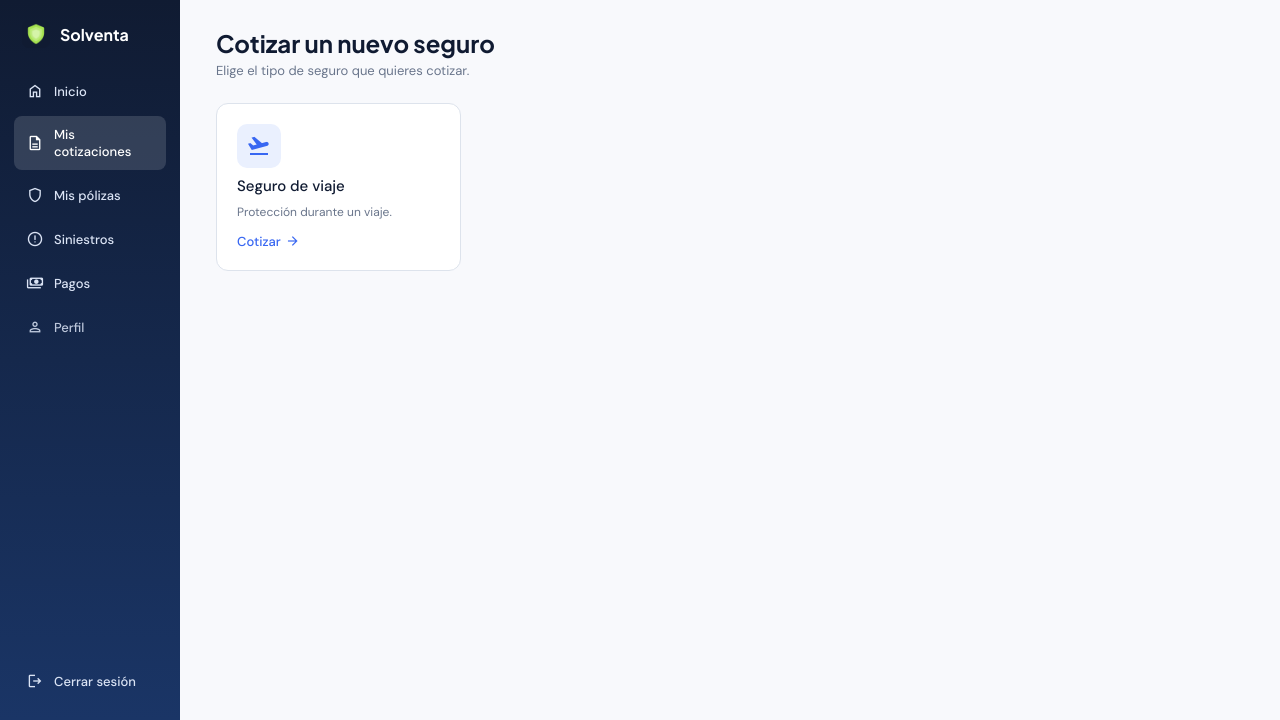
Scenario: cancela desde el resumen y vuelve a la selección de ramos
Click the button "Seguro de viaje Protección durante un viaje. Cotizar" at (338, 187), box [216,103,461,271]
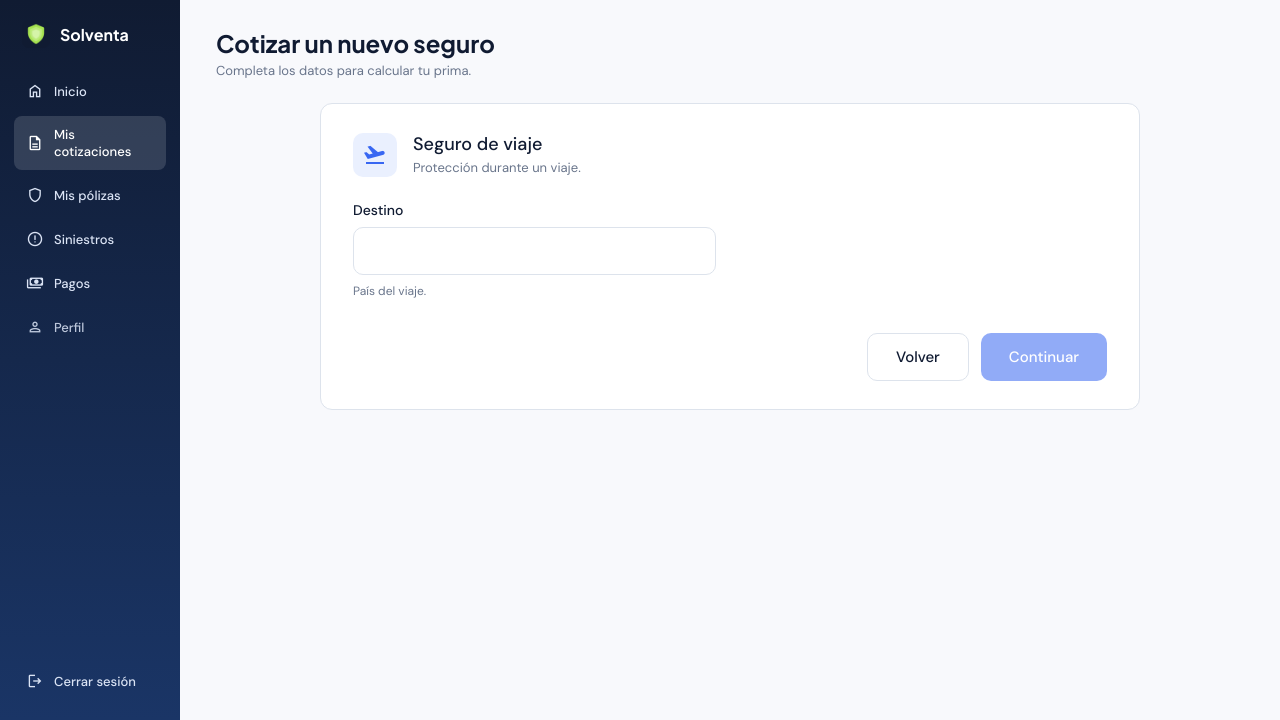
Type "Lima" into the field labelled "Destino" at (534, 251), box [353,227,716,275]
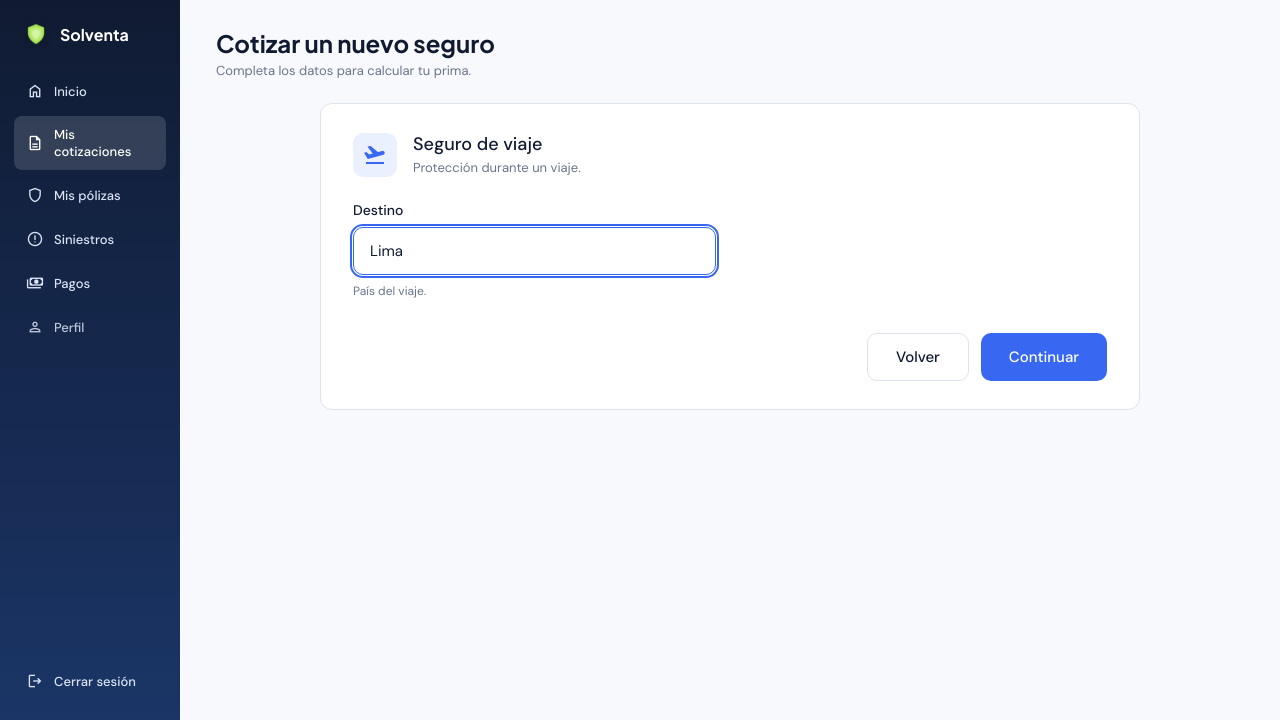
Click the button "Continuar" at (1044, 357), box [981,333,1107,381]
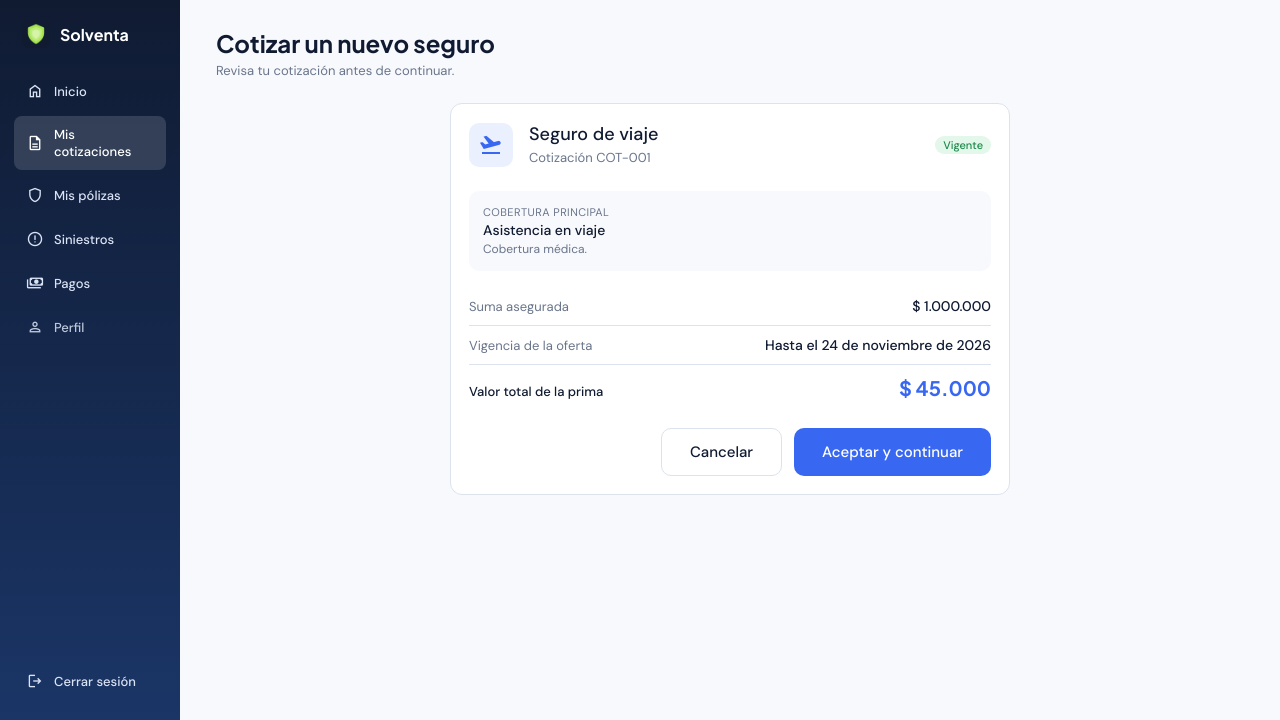
Click the button "Cancelar" at (722, 452), box [661,428,782,476]
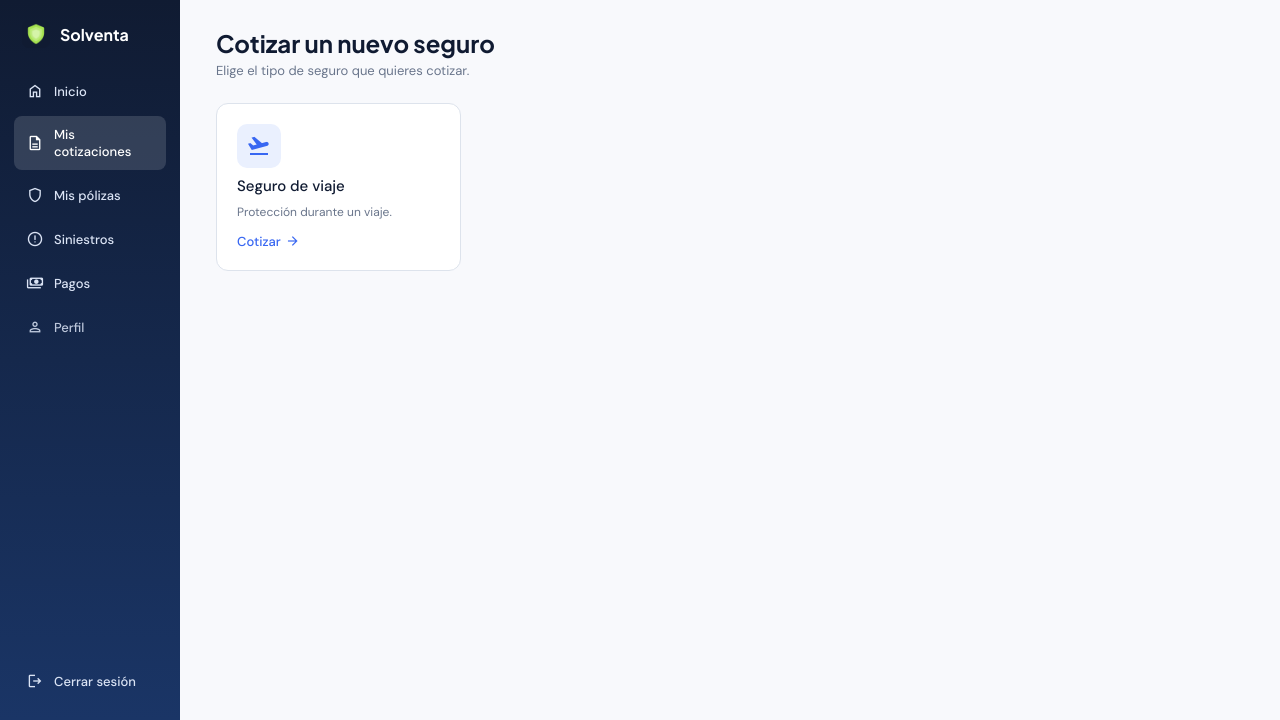
Now the text "Elige el tipo de seguro que quieres cotizar." is shown, box [216,62,495,79]
